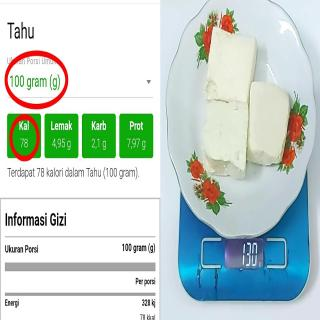Tahu: (202, 20, 291, 188)
